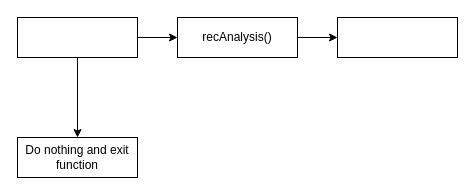
Image size: 475x195. Some labels were removed from this diagram. The shapes that lost their labels are listed below. From the top down, each one's centre as x and y in pixels, then its label:
At point 77,37: "SaveButton_Click()".
At point 397,37: "saveCase()".
